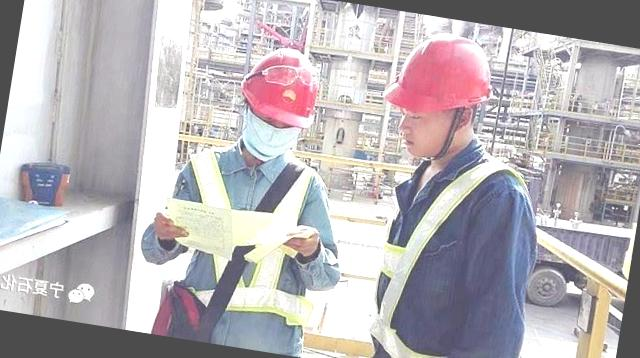helmet: (376, 24, 506, 128), (234, 36, 328, 134)
person: (116, 25, 375, 358), (335, 20, 566, 358)
